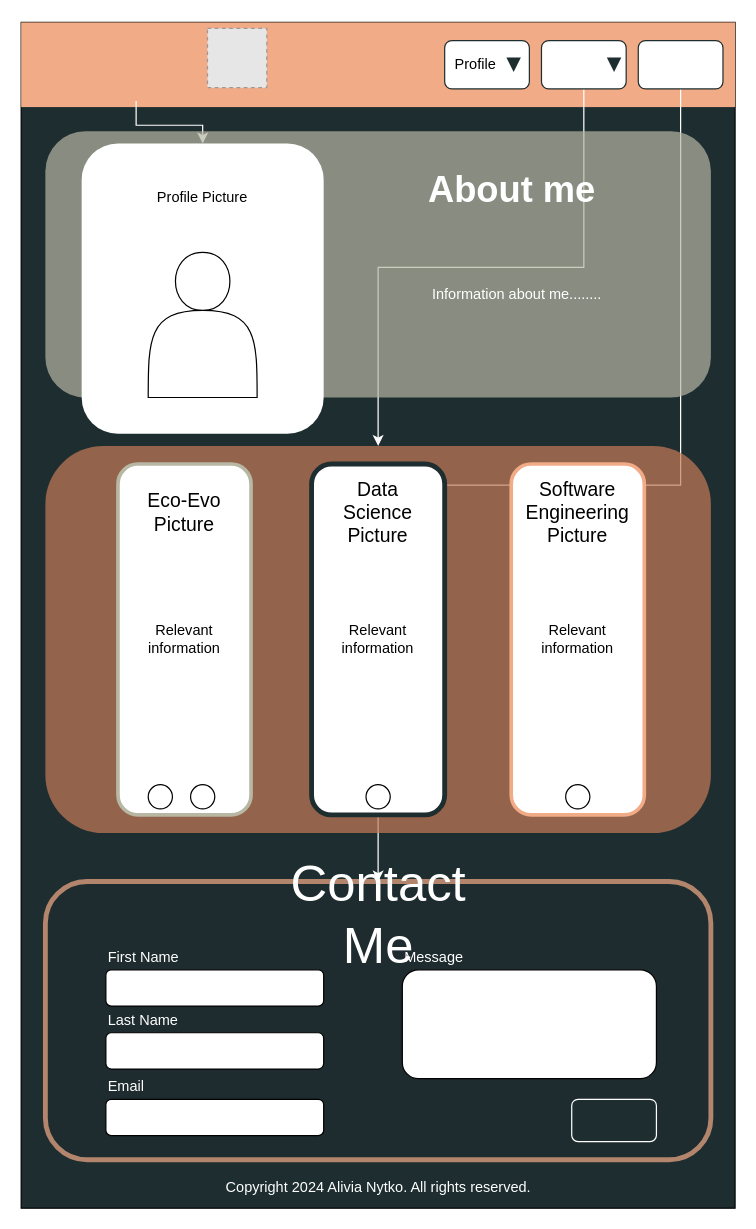
Image size: 756x1229. Some labels were removed from this diagram. Grey dashed boxes stand in for pictures. Each missing label, with the box of its shape:
Alivia Nytko: (45, 28, 226, 100)
Contact: (637, 39, 723, 89)
Projects: (540, 39, 626, 89)
Send: (571, 1098, 656, 1142)
